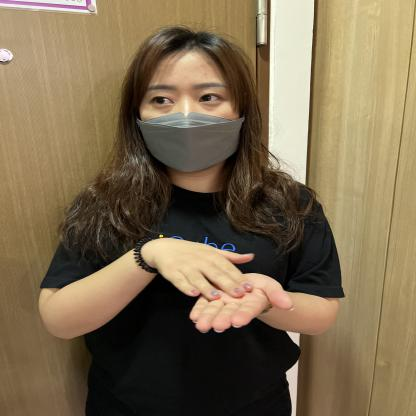Love: (102, 223, 314, 366)
